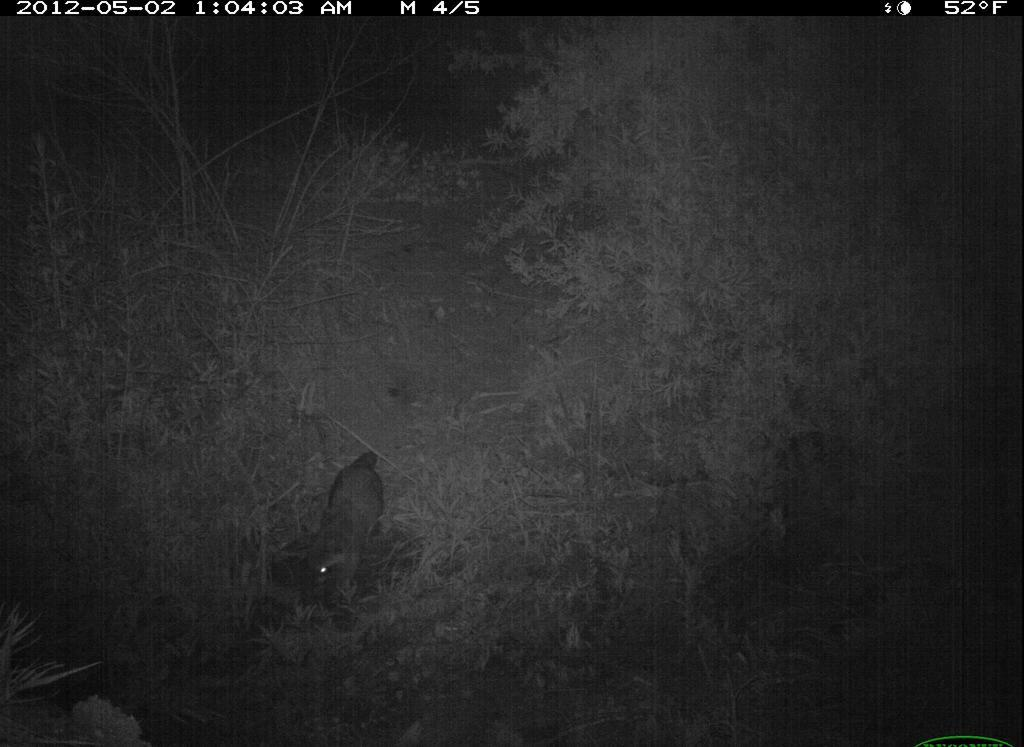raccoon: (313, 443, 396, 621)
